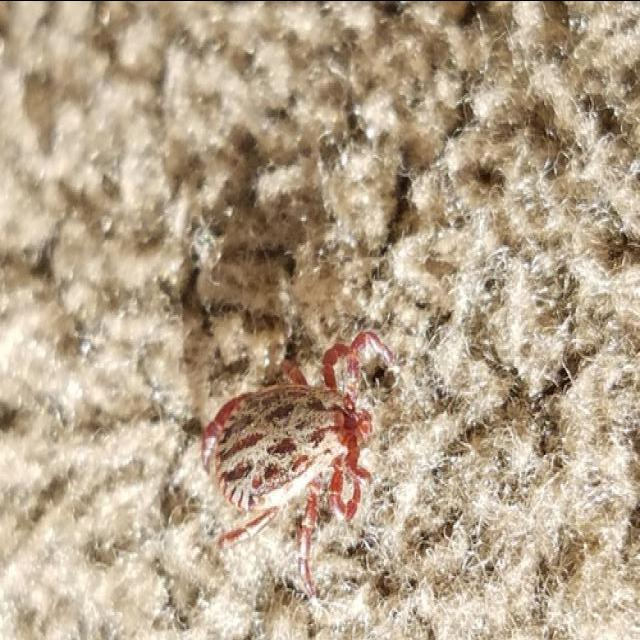Dermacentor Reticulatus-M: (201, 329, 389, 589)
